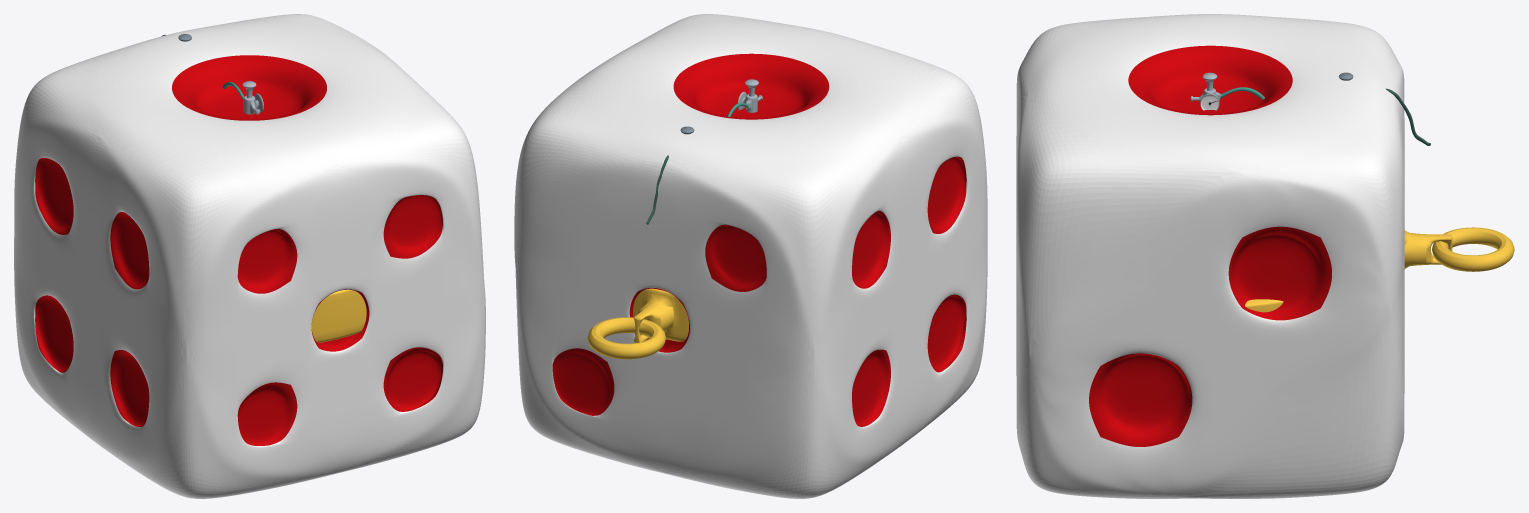
The model's file is 旧氧气瓶.fbx.
The picture shows the model from 3 angles, left to right: view 1: azimuth 30°, elevation 25°; view 2: azimuth 150°, elevation 25°; view 3: azimuth 270°, elevation 25°; orthographic projection. The views are drawn at different scales.
Parts seen in each view (by area): view 1: 骰子, 柱体, 新氧气瓶; view 2: 骰子, 环体, 柱体, 新氧气瓶; view 3: 骰子, 环体, 柱体, 新氧气瓶.
Boxes of the visible parts, x1=… form: 骰子: x1=14, y1=14, x2=485, y2=498; 柱体: x1=311, y1=289, x2=366, y2=342; 新氧气瓶: x1=222, y1=81, x2=263, y2=114; 骰子: x1=514, y1=14, x2=987, y2=498; 环体: x1=587, y1=317, x2=665, y2=359; 柱体: x1=633, y1=288, x2=688, y2=342; 新氧气瓶: x1=727, y1=79, x2=762, y2=116; 骰子: x1=1016, y1=14, x2=1404, y2=498; 环体: x1=1432, y1=227, x2=1514, y2=271; 柱体: x1=1245, y1=230, x2=1452, y2=312; 新氧气瓶: x1=1190, y1=72, x2=1264, y2=110.
Bounding box in the file's own units: 200 × 203 × 257.
